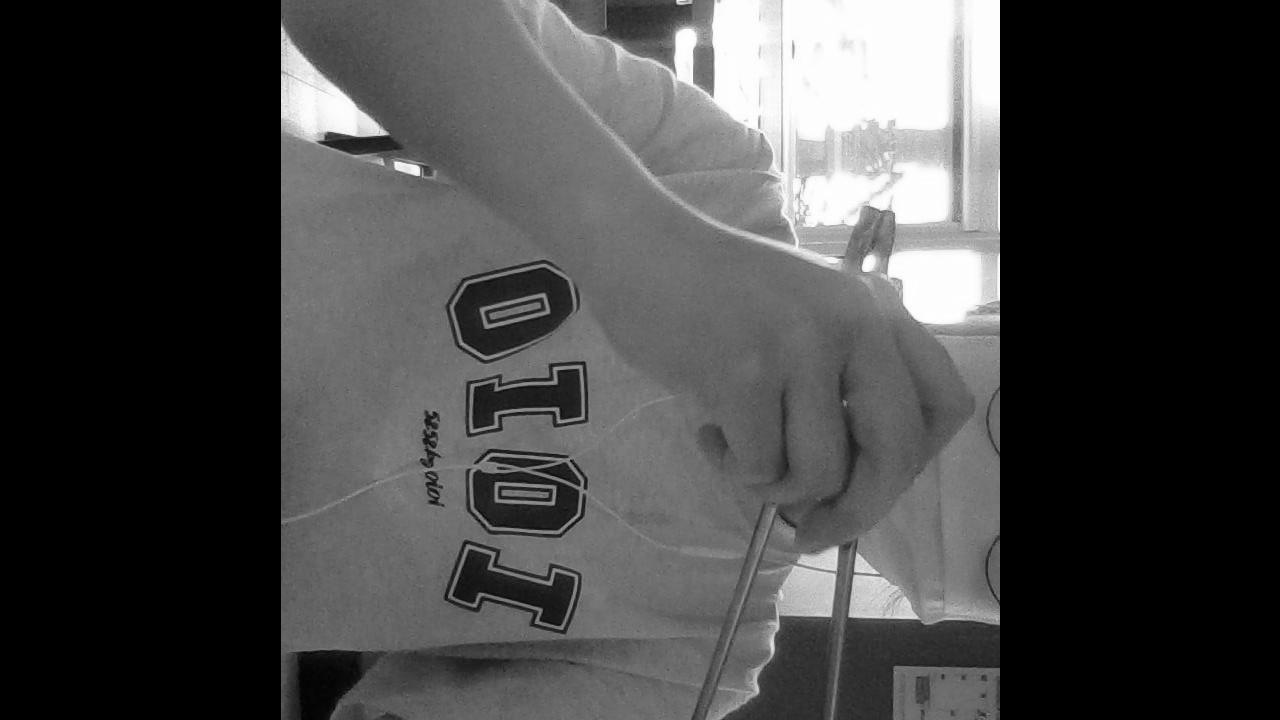chopstick: (651, 205, 878, 720), (795, 210, 894, 720)
hand: (601, 222, 975, 557)
